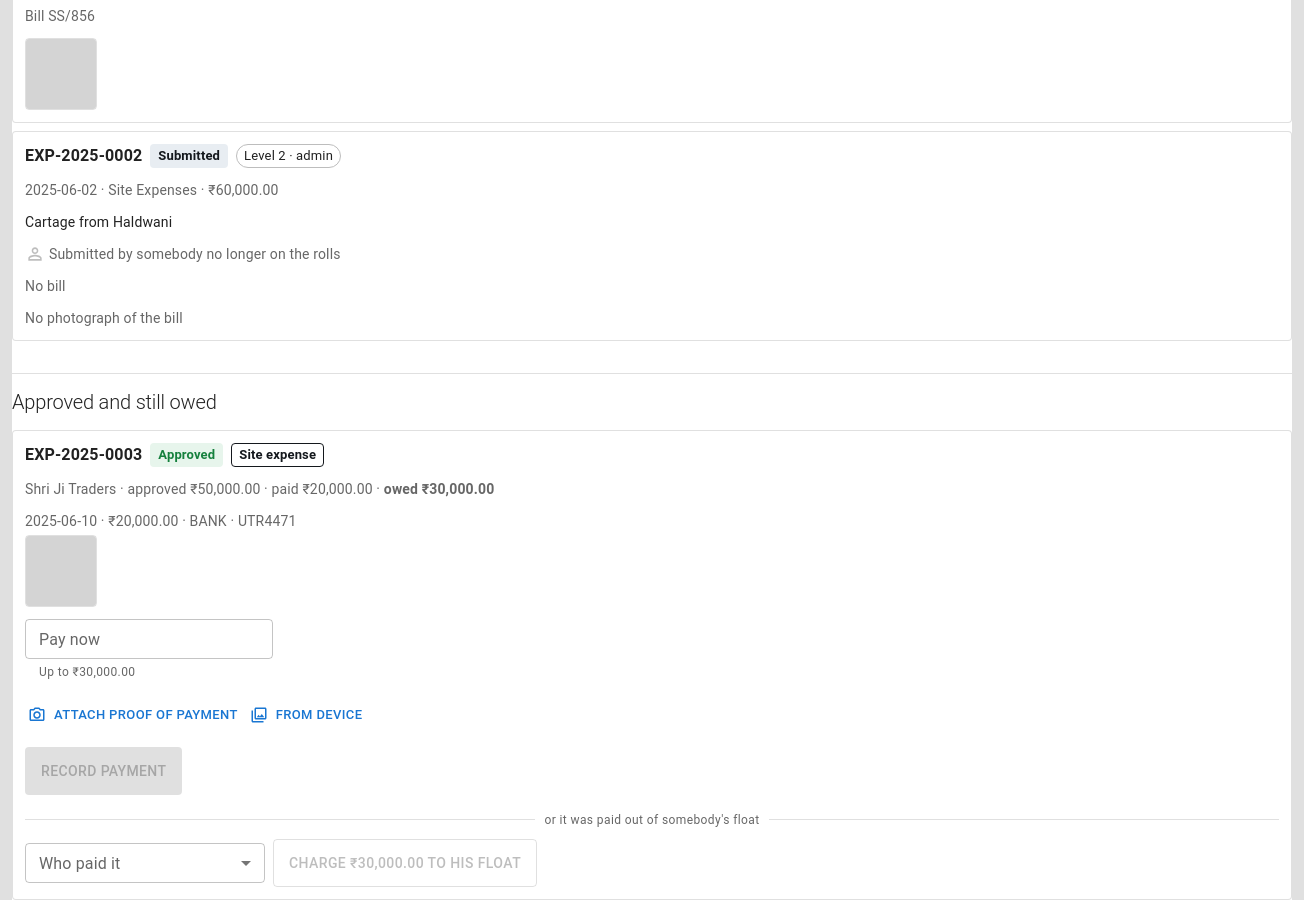
it: ApprovalsPage › says a holder is already owed rather than printing him a minus sign
(page scrolled)
Check: the text "EXP-2025-0003" is shown, box left=25, top=443, right=142, bottom=467
Click the dropdown named "Who paid it": (145, 863) left=25, top=843, right=265, bottom=883
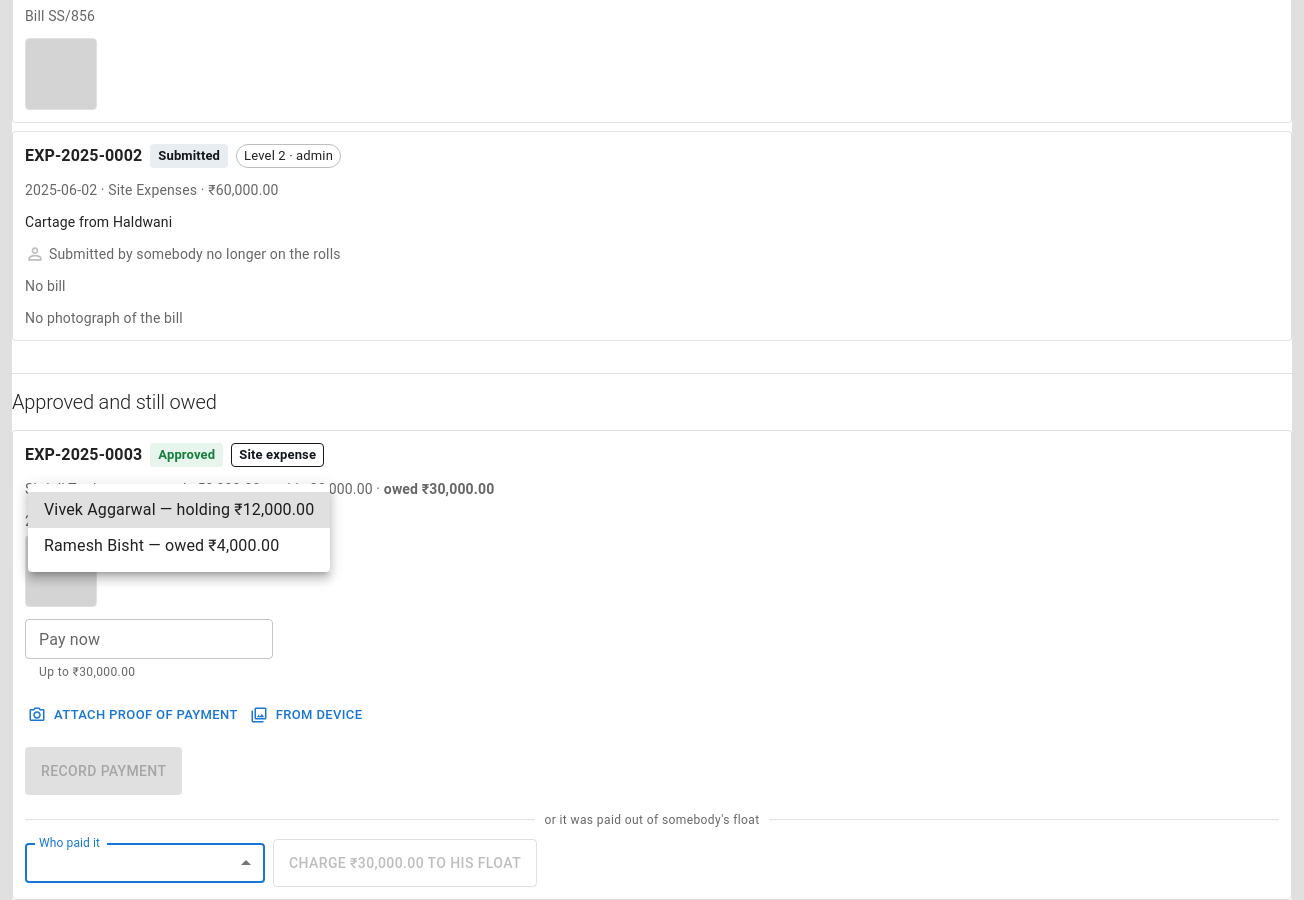
Click the option "Ramesh Bisht — owed ₹4,000.00": (162, 546) left=44, top=536, right=279, bottom=555
(page scrolled)
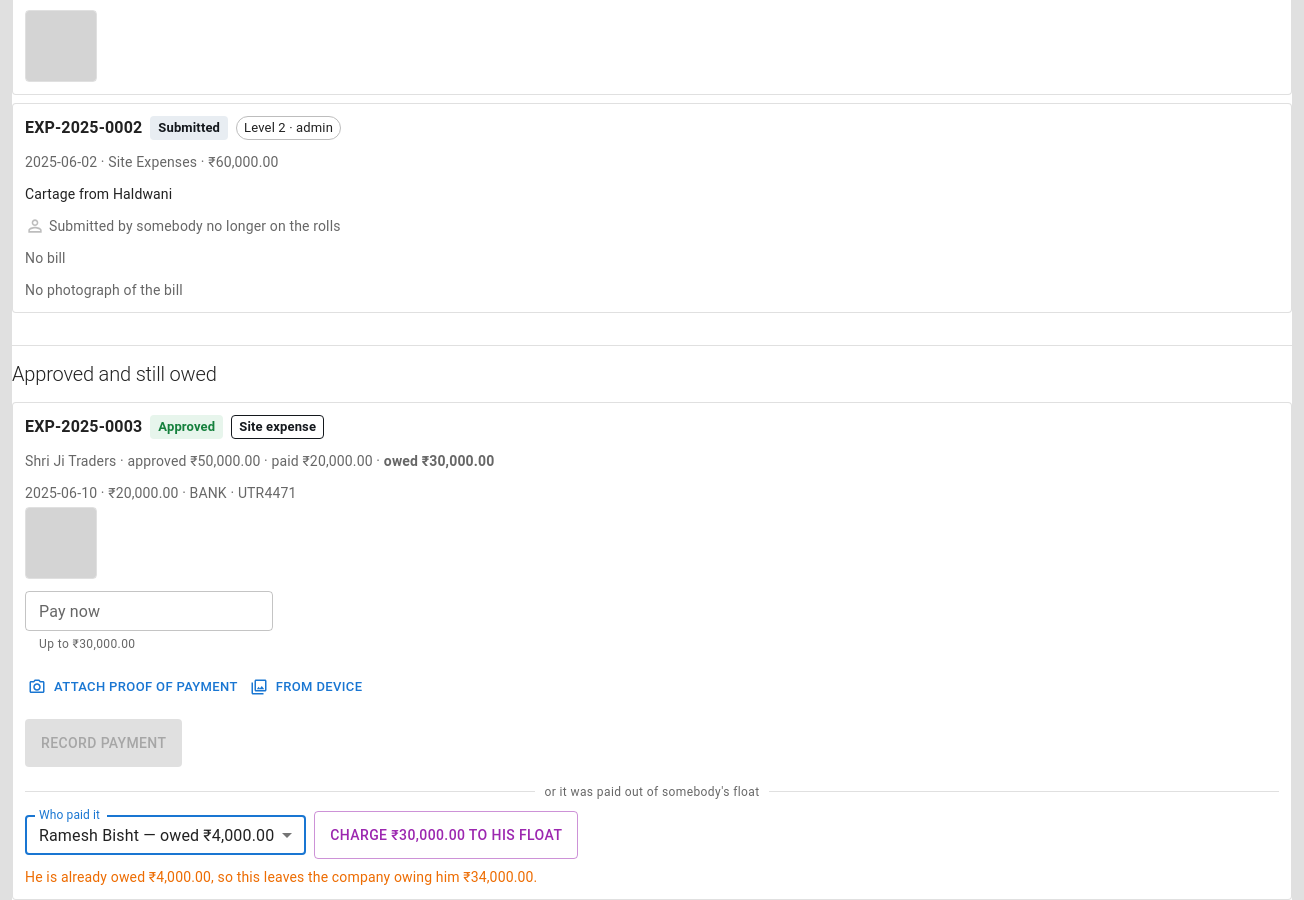
Check: the text "He is already owed ₹4,000.00, so this leaves the company owing him ₹34,000.00." is shown, box left=25, top=869, right=537, bottom=885
